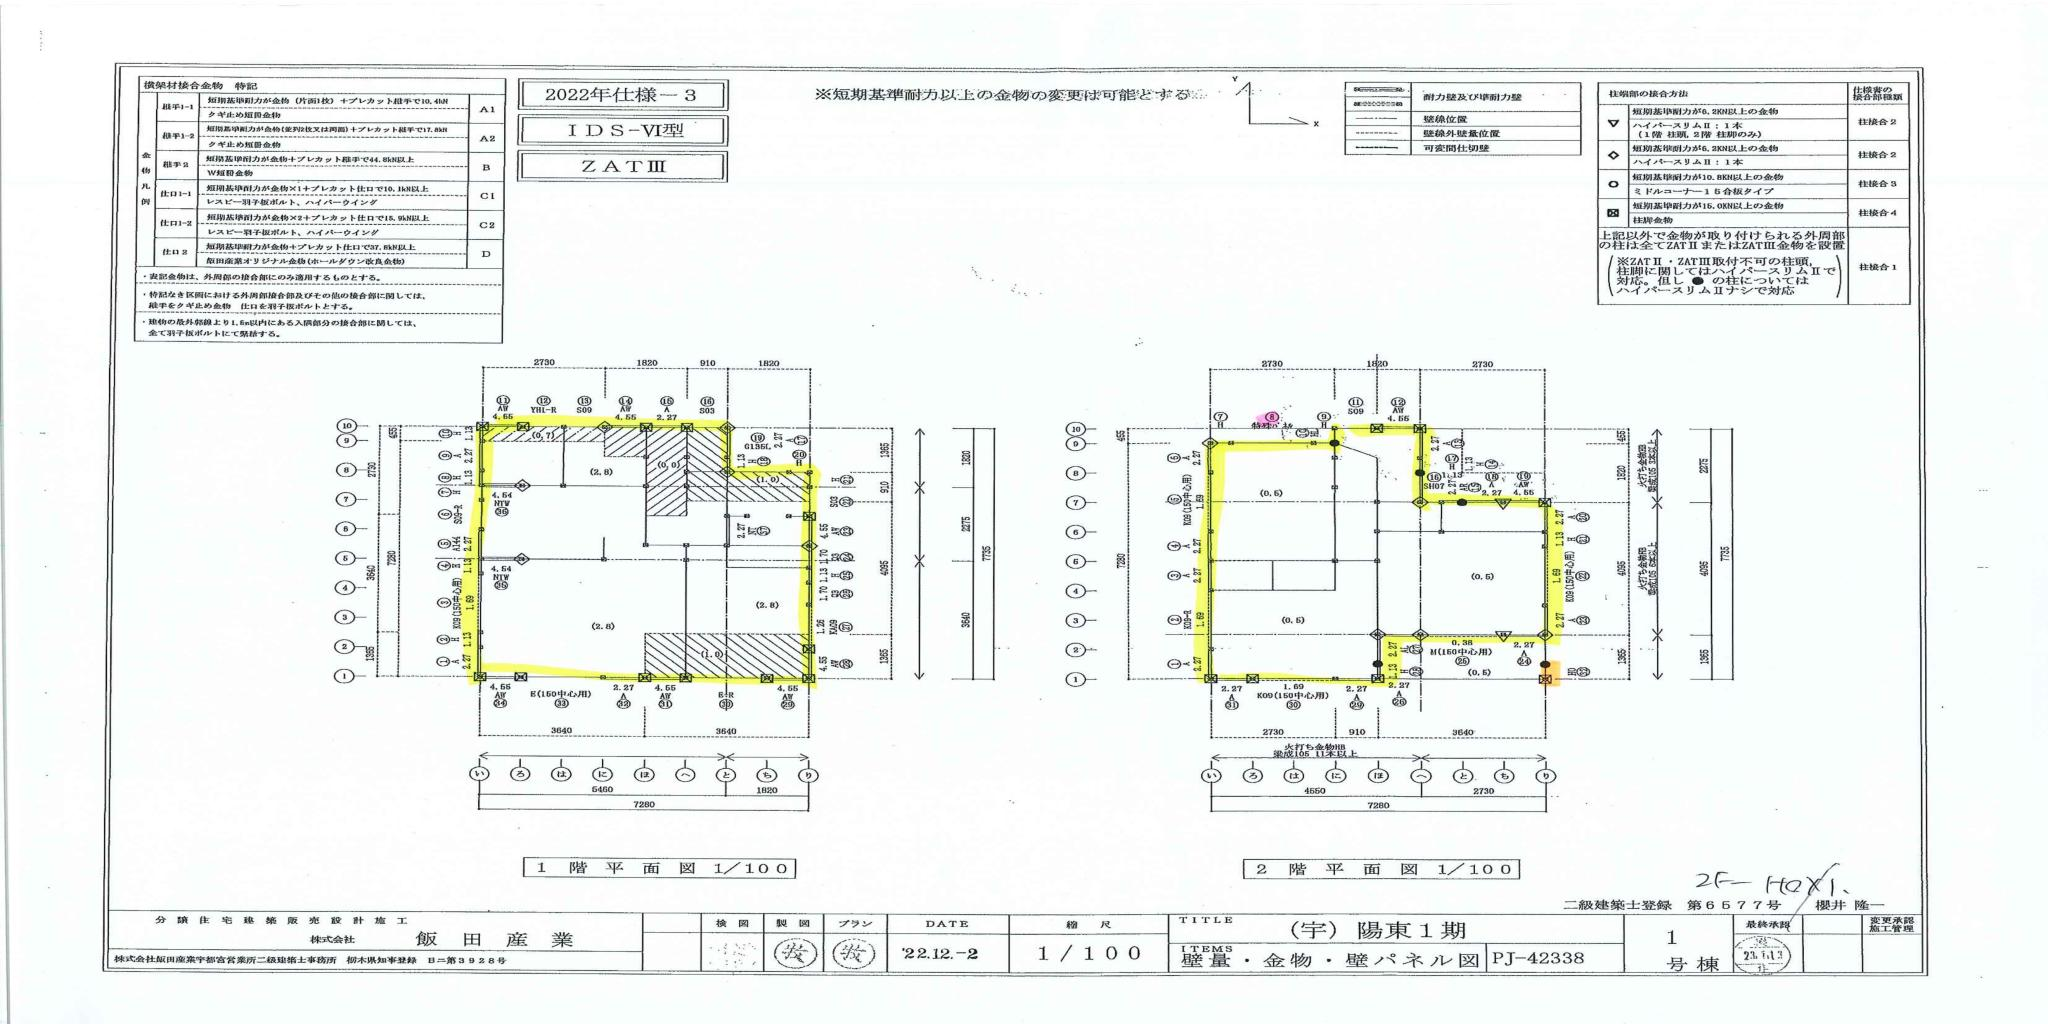CAD: (1163, 395, 1593, 712), (433, 392, 856, 710)
